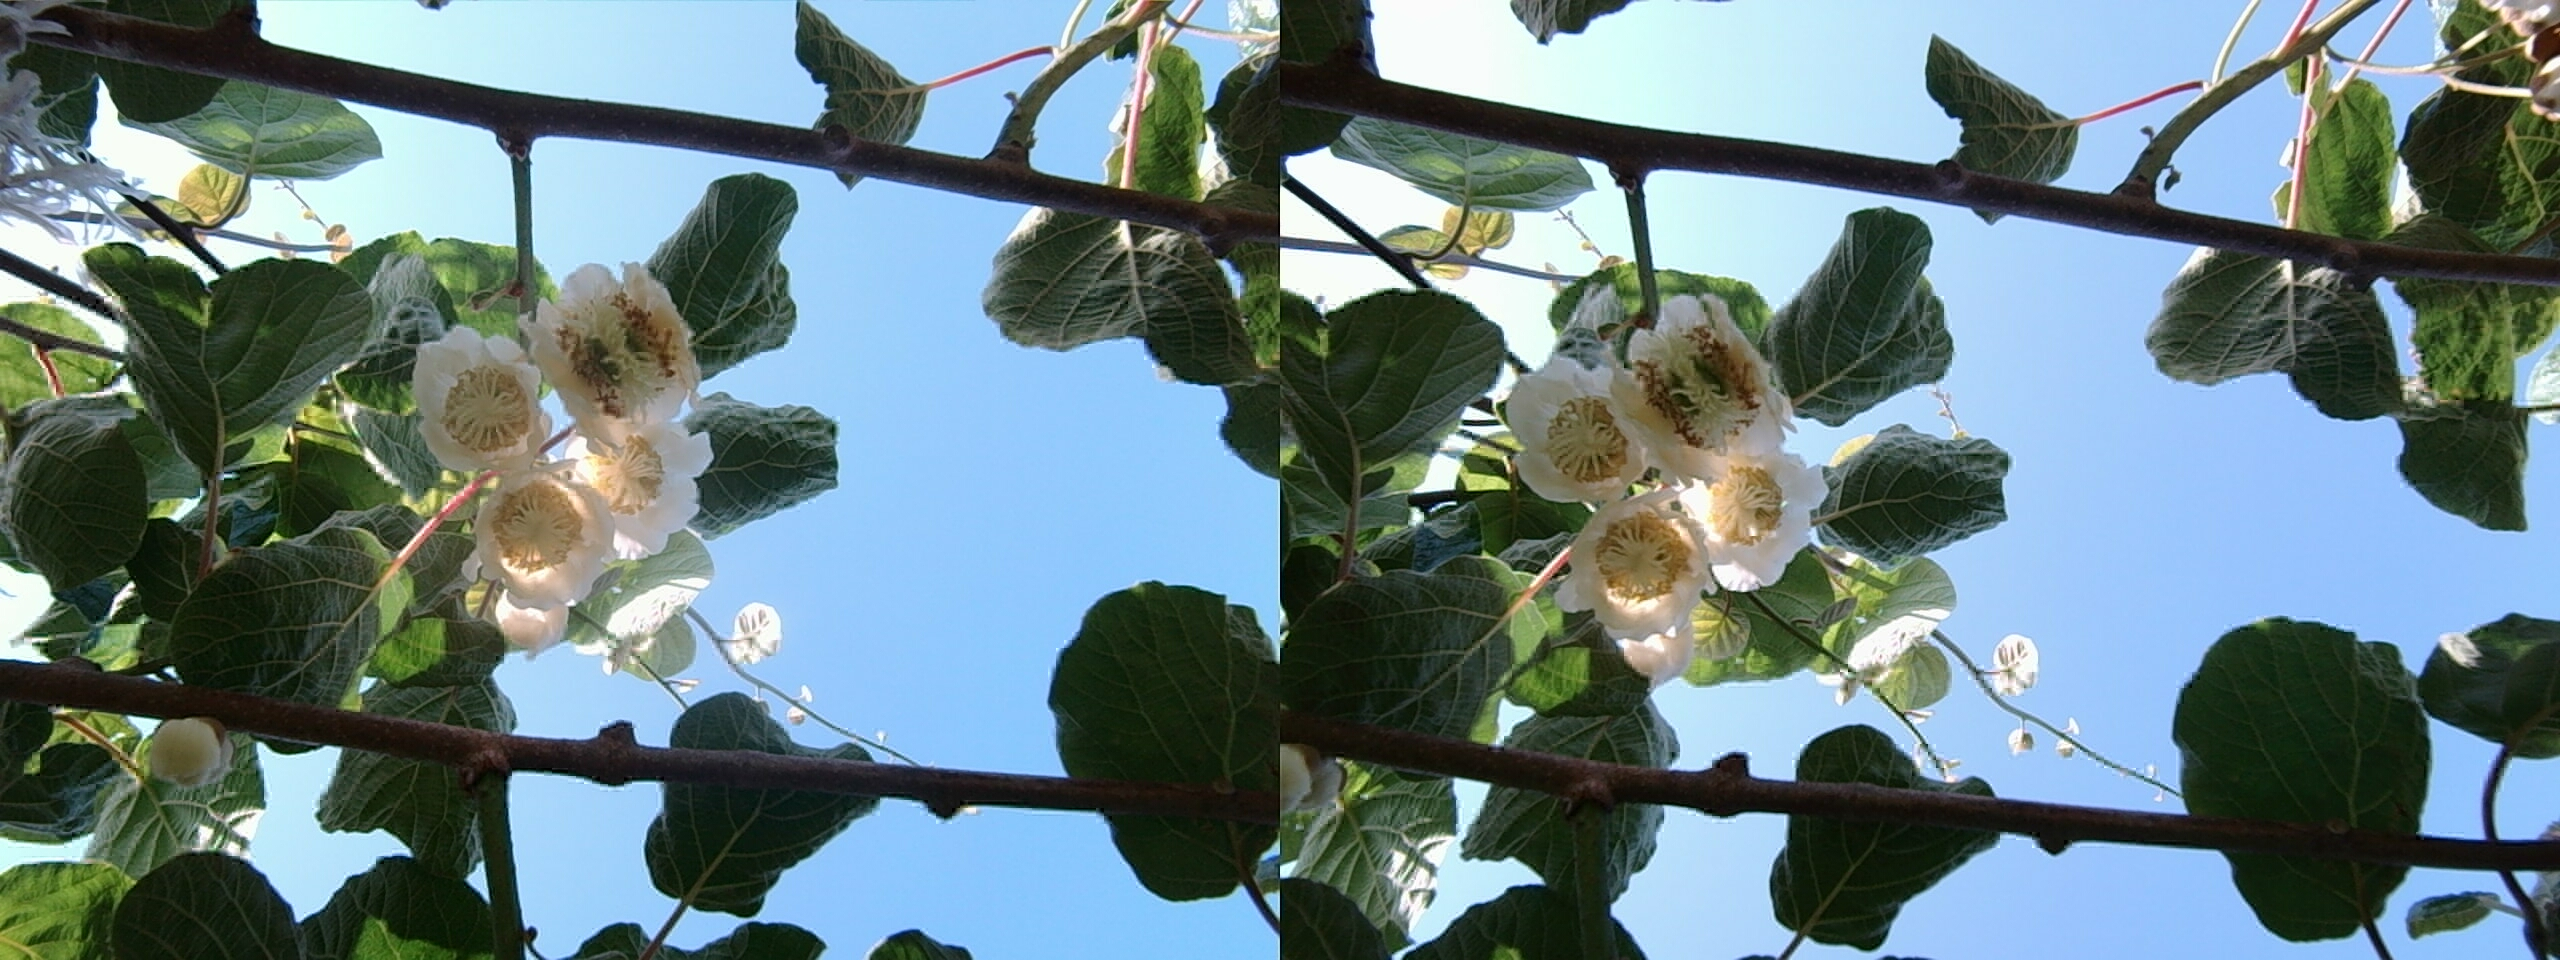flower: (513, 255, 705, 449), (1602, 287, 1793, 473), (1554, 487, 1729, 647), (1502, 351, 1656, 501), (469, 460, 629, 604), (1664, 441, 1820, 581), (407, 327, 553, 469), (544, 411, 709, 527)
